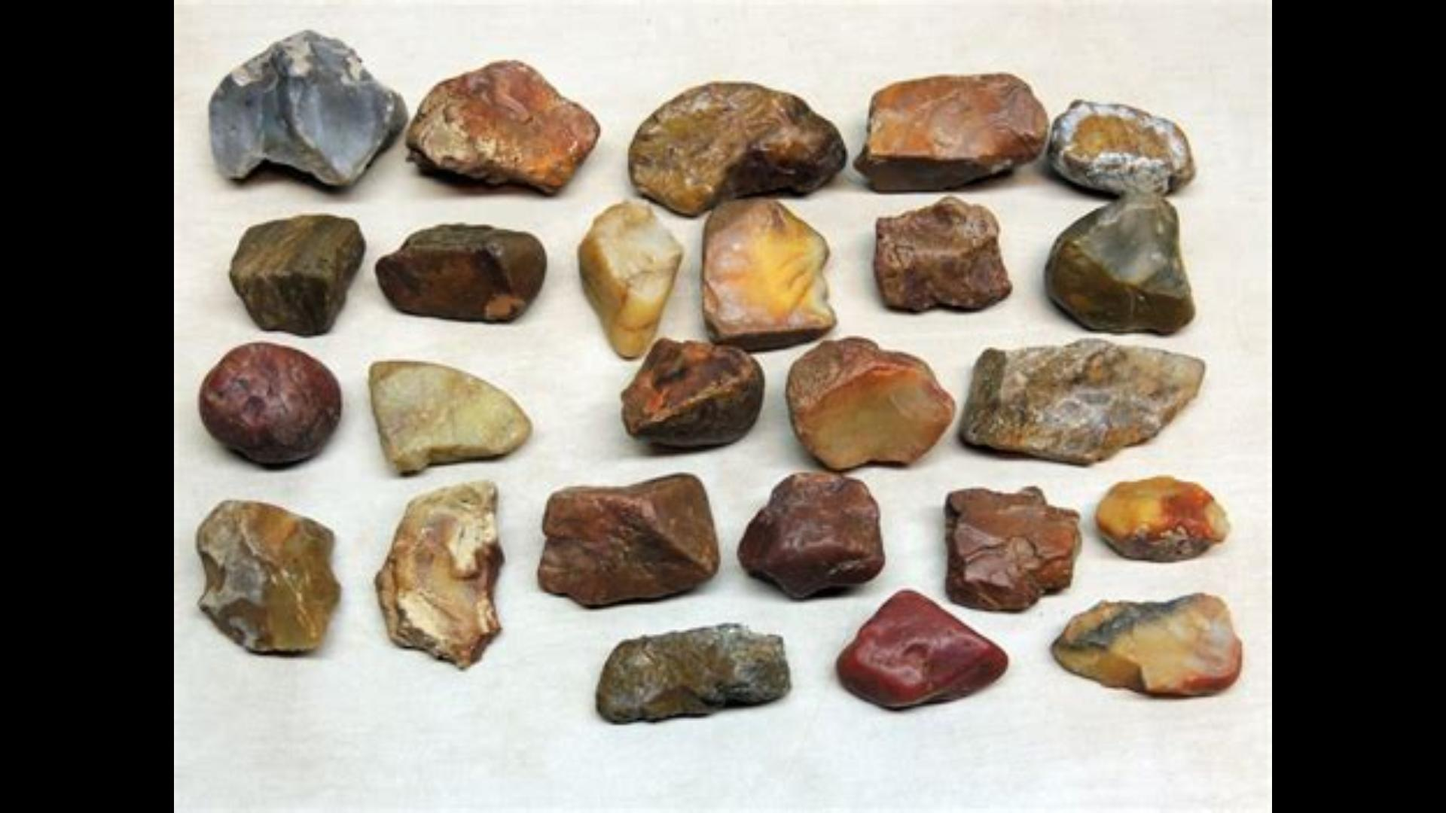rock: (209, 30, 403, 183), (962, 340, 1203, 463), (630, 81, 844, 213), (406, 60, 598, 192), (376, 482, 501, 665), (540, 477, 716, 605), (855, 74, 1045, 190), (788, 338, 953, 468), (199, 500, 339, 649), (1048, 192, 1191, 331), (839, 591, 1006, 706), (702, 202, 834, 347), (1052, 595, 1240, 693), (596, 628, 788, 720), (739, 475, 883, 595), (371, 361, 529, 470), (199, 347, 339, 461), (230, 215, 364, 334), (946, 486, 1075, 609), (378, 225, 545, 320), (580, 202, 679, 357), (874, 197, 1008, 308), (621, 343, 763, 445), (1052, 100, 1194, 192), (1099, 477, 1228, 558)
